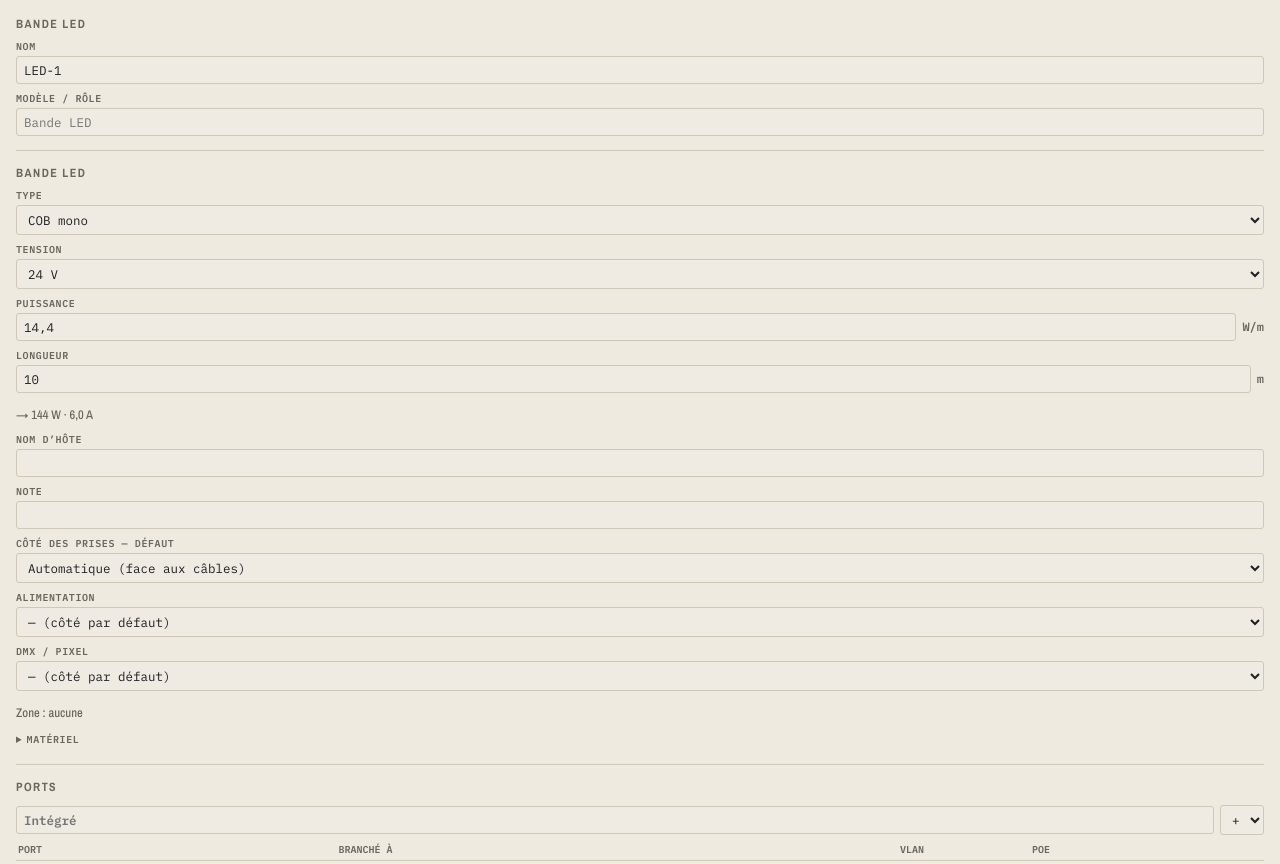
Test case: bande LED › le type préremplit, puis W, A, pixels, canaux et univers se calculent
Select "Pixel RGBW (SK6812)" in the dropdown named "Type de bande" at [640, 220], box [16, 205, 1264, 235]
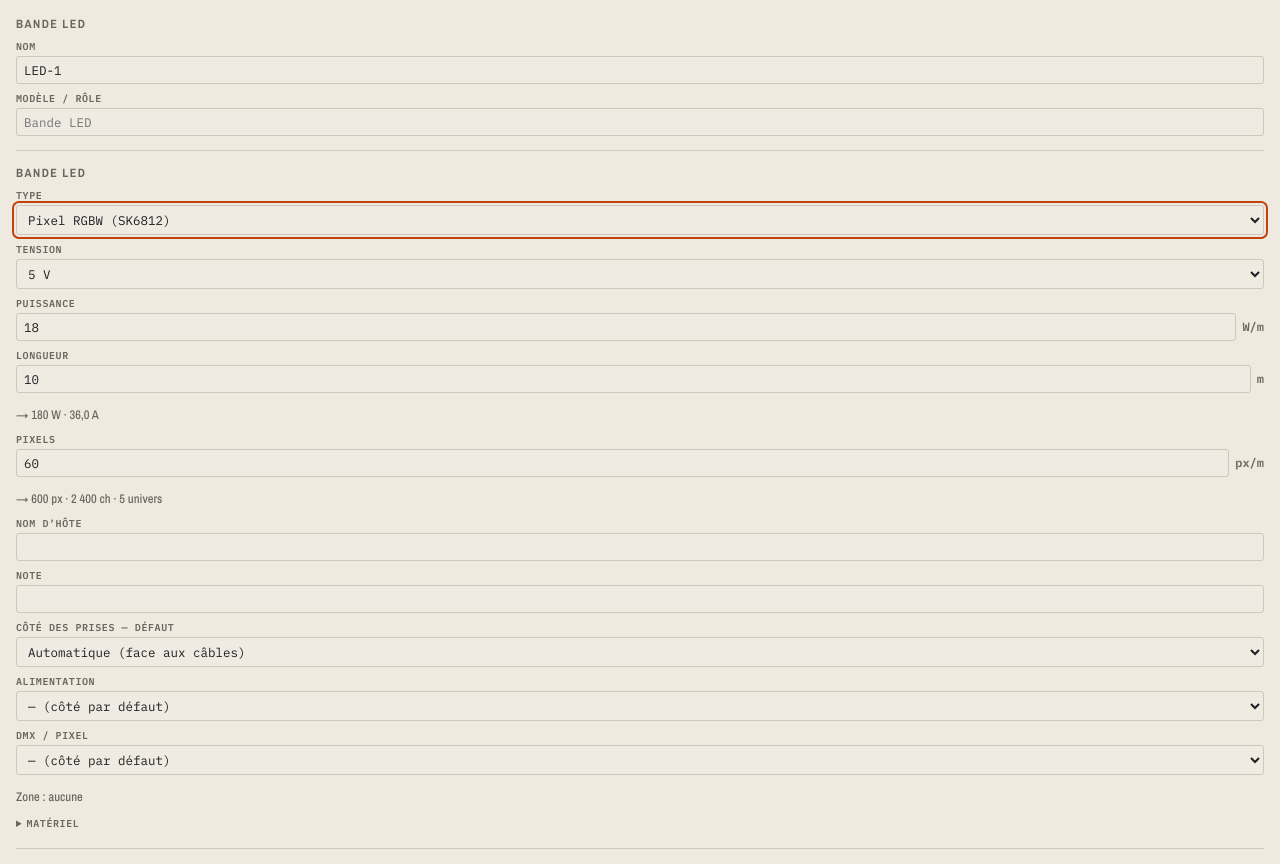
Select "24 V" in the dropdown named "Tension de la bande" at [640, 274], box [16, 259, 1264, 289]
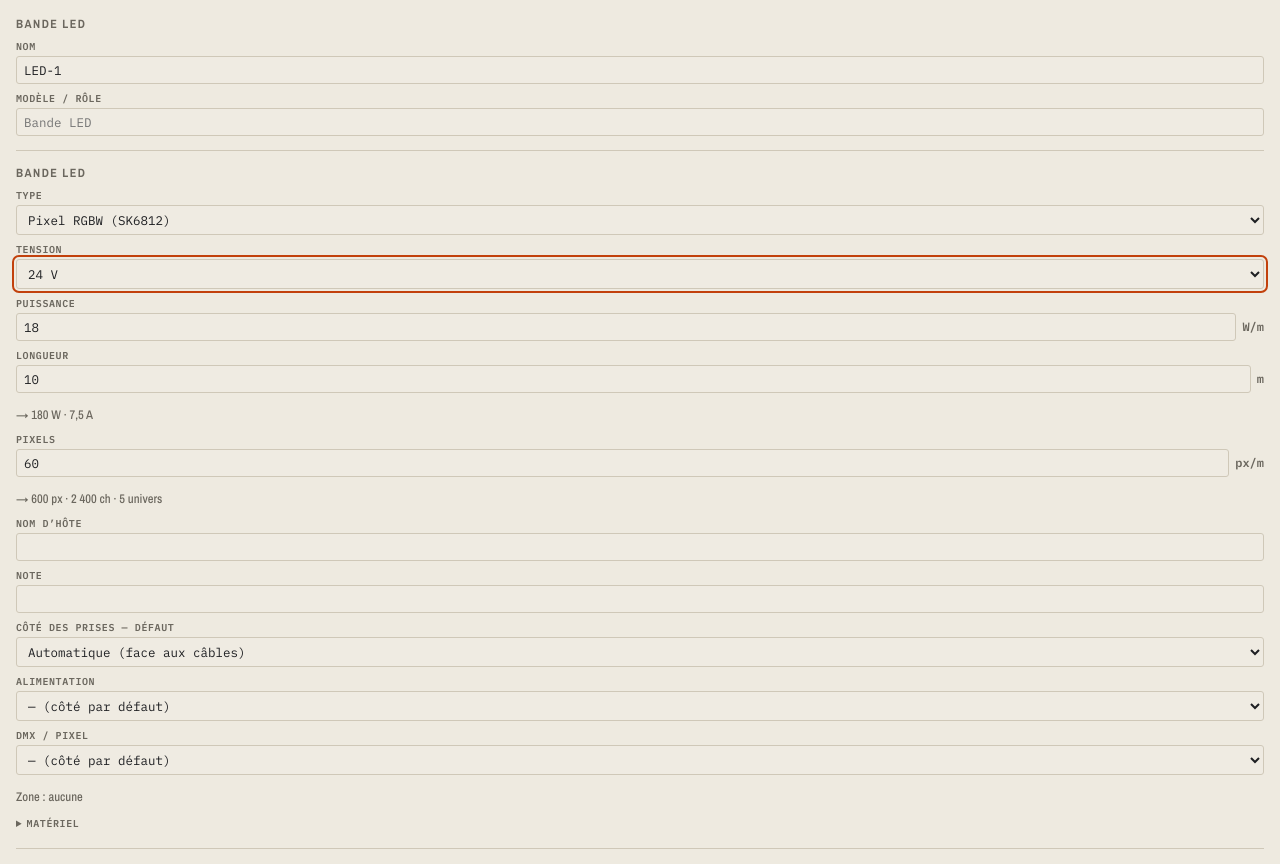
Replace the text in the field named "Puissance (W/m)" with "14,4" at [626, 327], box [16, 313, 1236, 341]
Then press Enter
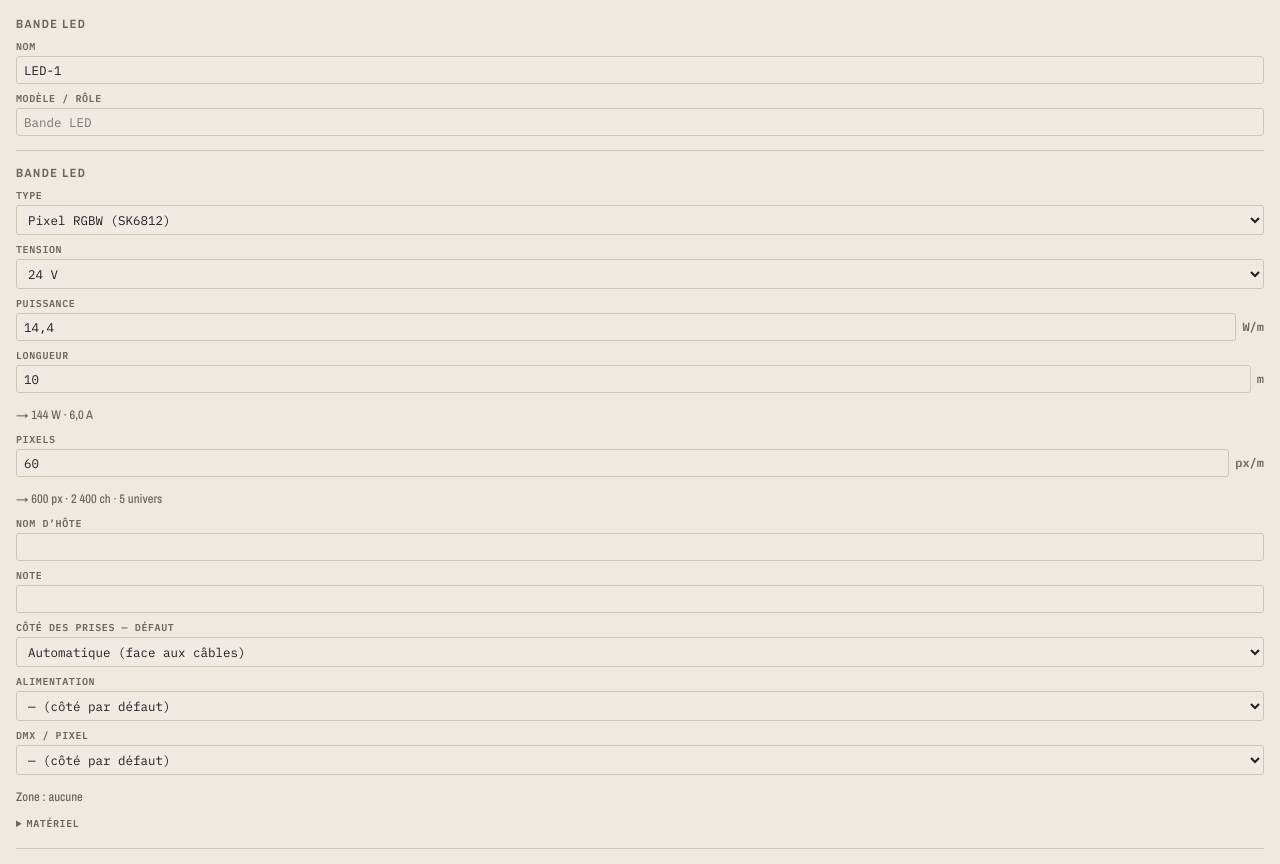
Replace the text in the field named "Longueur (m)" with "5" at [633, 379], box [16, 365, 1251, 393]
Then press Enter
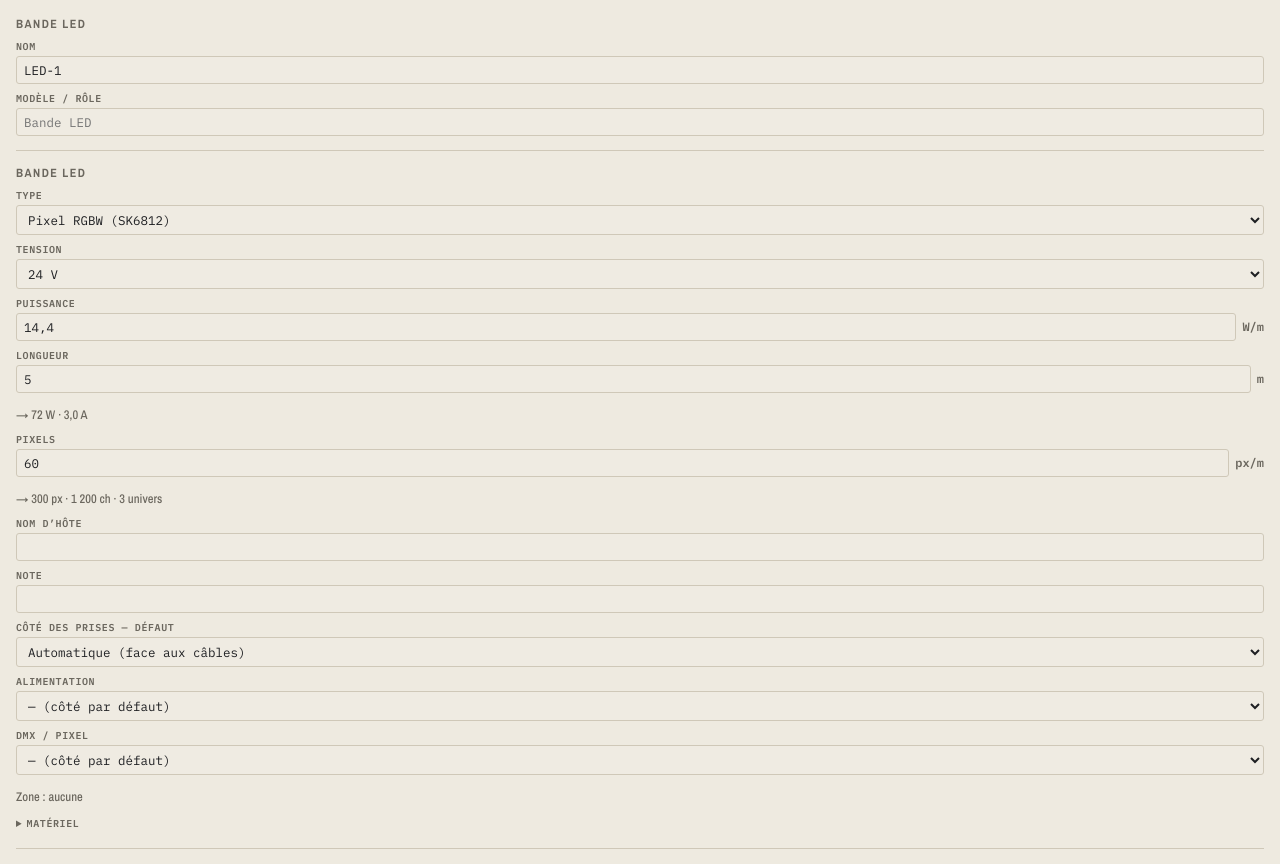
Check: the text "→ 72 W · 3,0 A" is shown, box [16, 406, 87, 422]
Check: the text "→ 300 px · 1 200 ch · 3 univers" is shown, box [16, 490, 162, 506]
